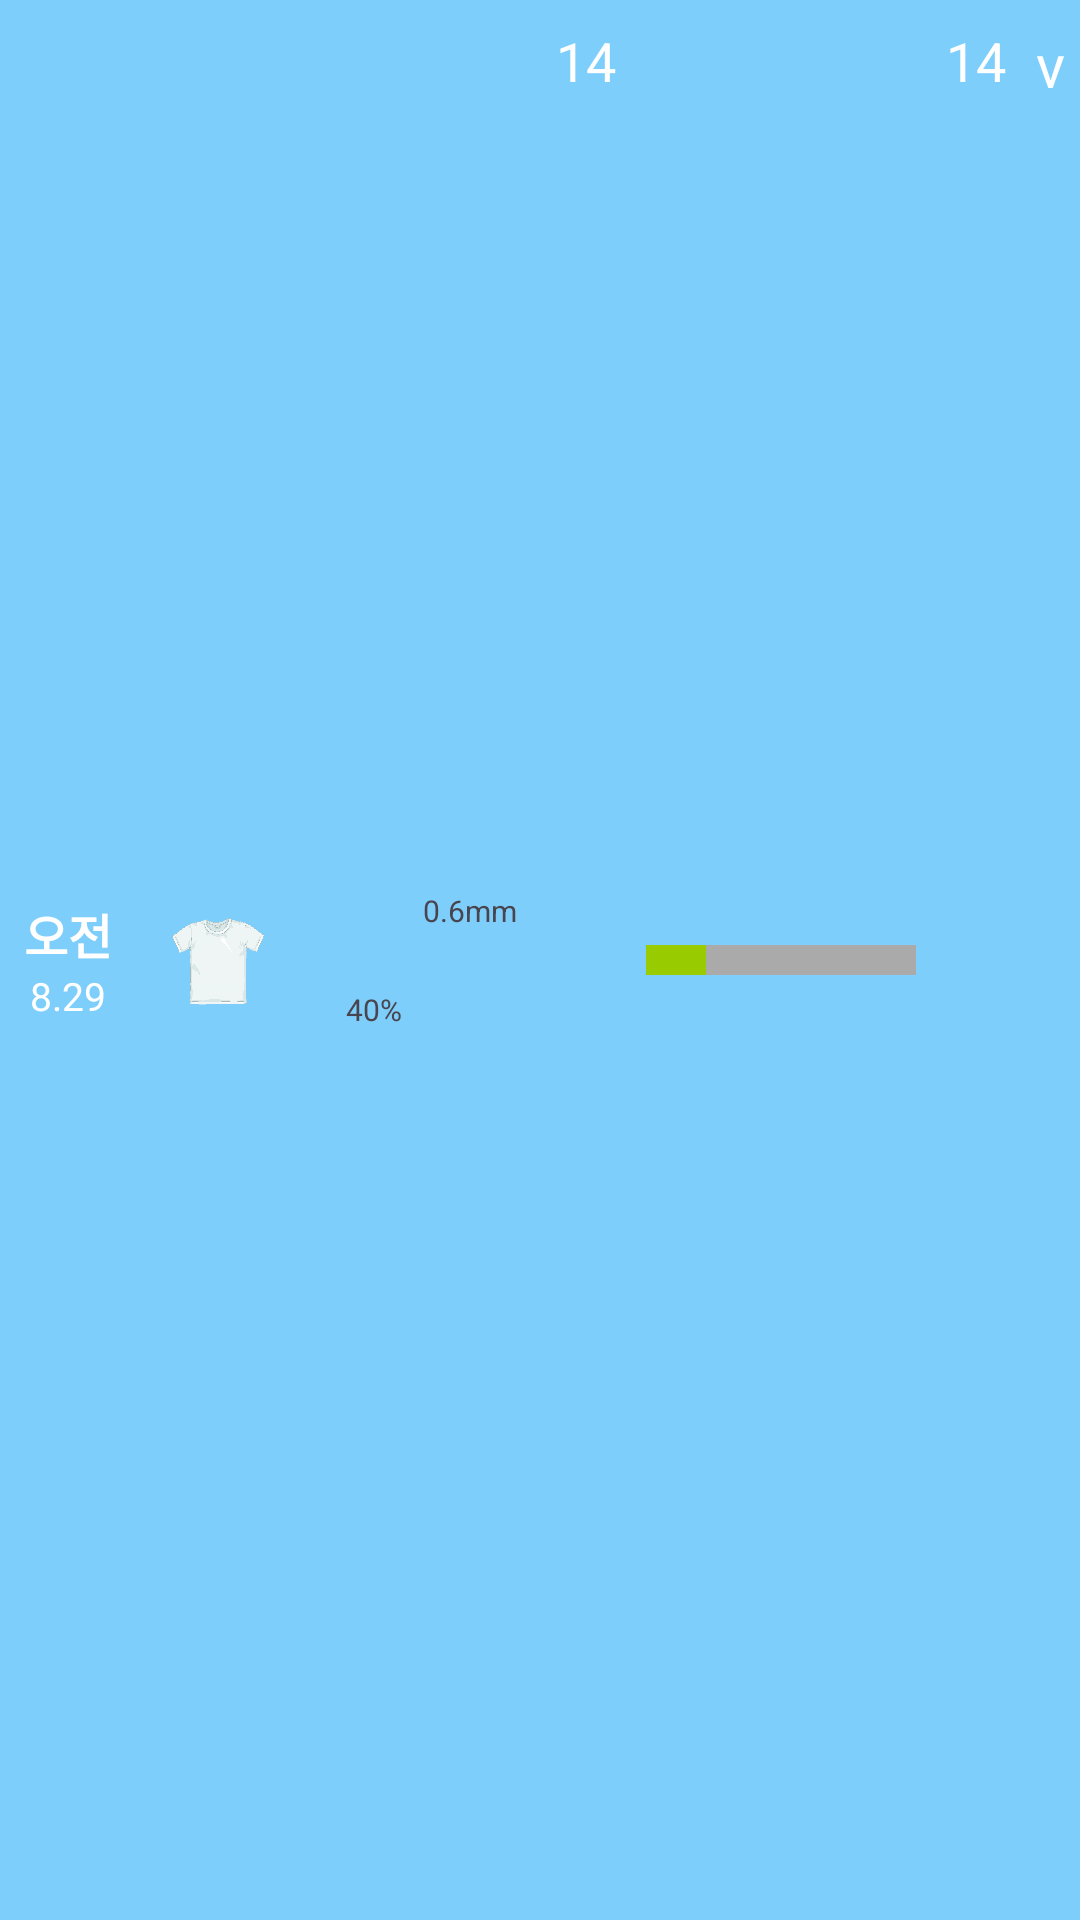

Locate icon controls on the screen. Image size 1080px×1920px, boxes as box(x1, y1, x2, y2).
clothes: box(172, 918, 264, 1005)
